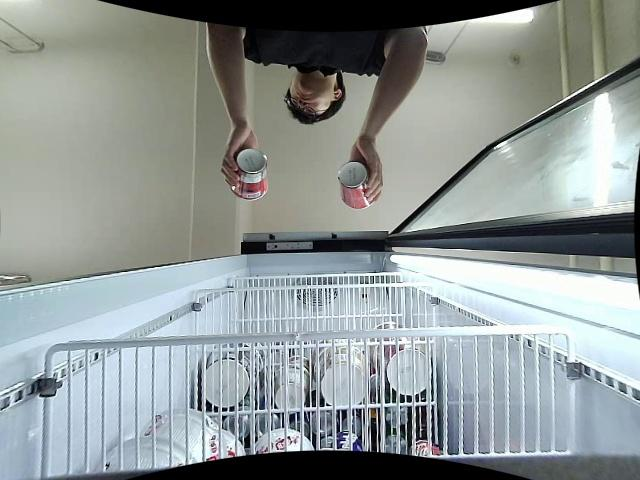00_hand: (220, 127, 259, 185), (349, 141, 384, 205)
02_shinRamen_S: (230, 150, 270, 201), (339, 161, 375, 209)
